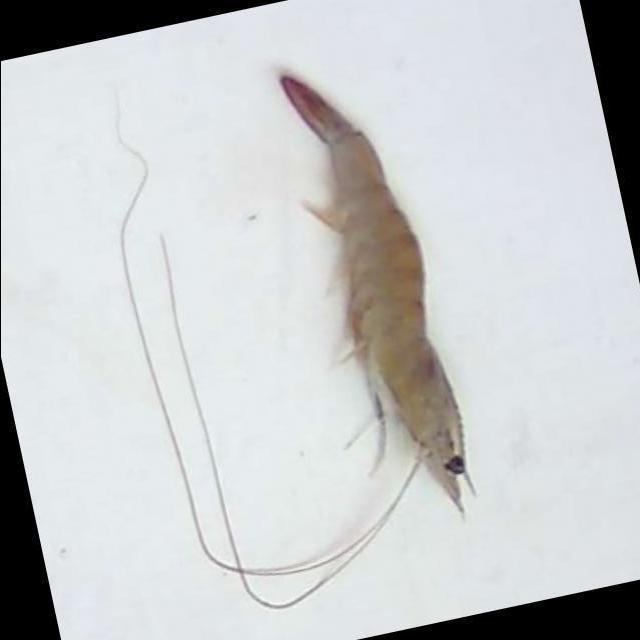shrimp: (280, 74, 474, 511)
